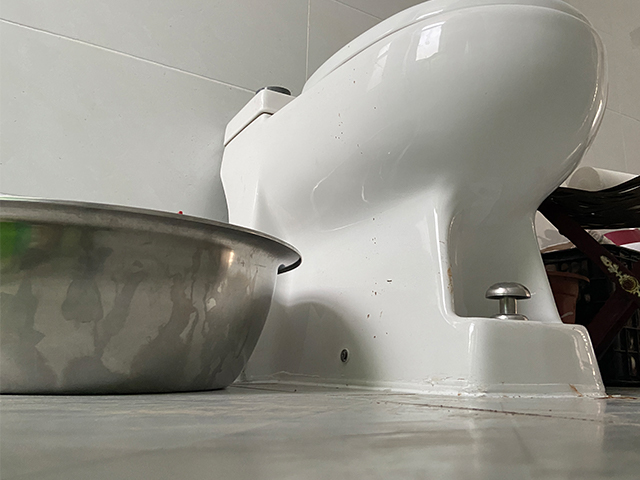closestool: (218, 1, 610, 401)
